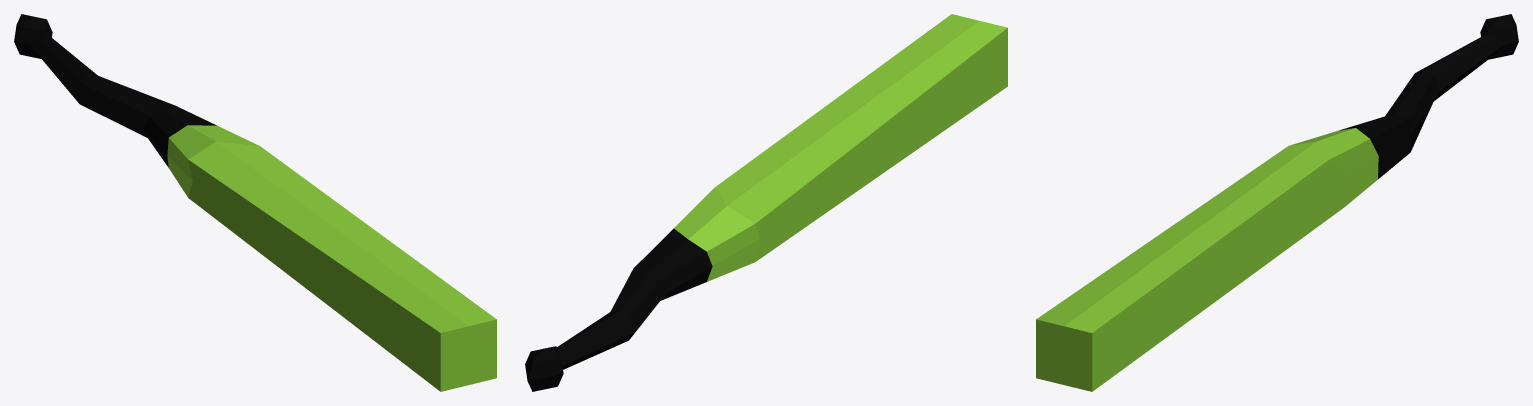
File: MatchStruck.fbx
3 views of the same model, side by side, from view 1: azimuth 30°, elevation 25°; view 2: azimuth 150°, elevation 25°; view 3: azimuth 330°, elevation 25° (orthographic).
Parts seen in each view (by area): view 1: MatchStruck; view 2: MatchStruck; view 3: MatchStruck.
Boxes of the visible parts, left/top/right/bottom form: MatchStruck: left=14, top=14, right=496, bottom=391; MatchStruck: left=525, top=14, right=1007, bottom=391; MatchStruck: left=1036, top=14, right=1518, bottom=391.
Bounding box in the file's own units: 4.7 × 65.48 × 4.7.
